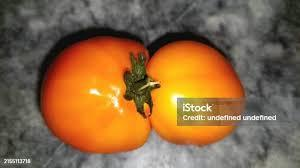Masak: (39, 32, 152, 155), (155, 38, 248, 145)
